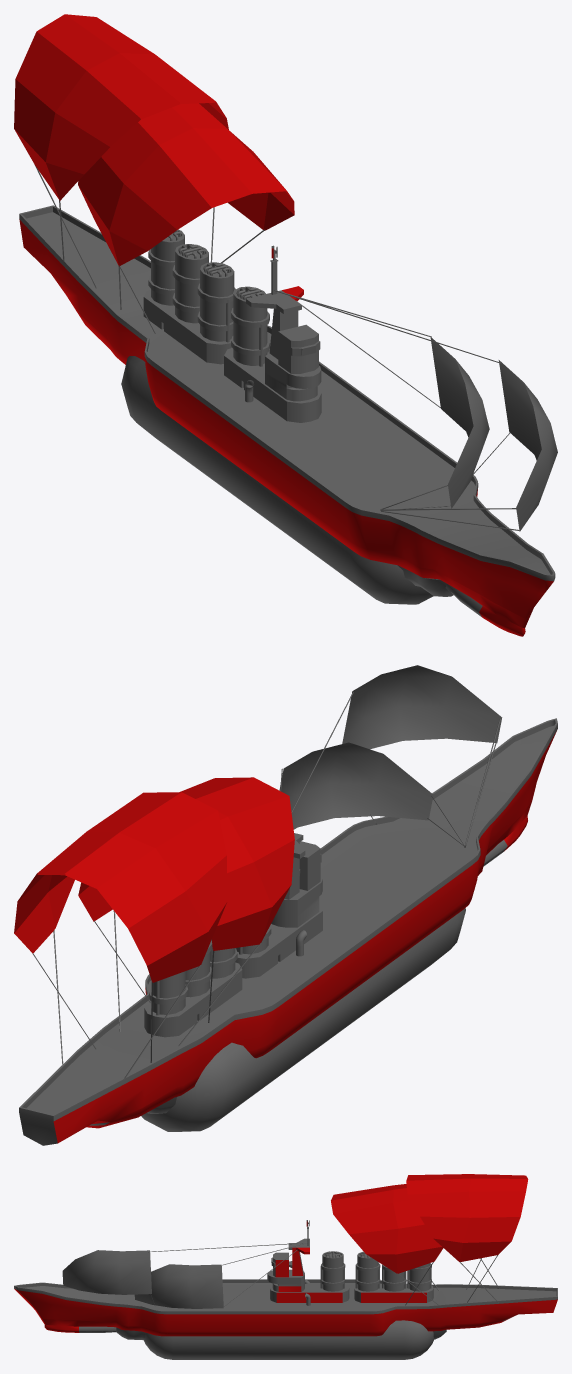
File: navy_ship_1.FBX
3 renders of one model, top to bottom at view 1: azimuth 30°, elevation 25°; view 2: azimuth 150°, elevation 25°; view 3: azimuth 270°, elevation 25°, orthographic. The views are drawn at different scales.
Parts seen in each view (by area): view 1: navy_ship_1; view 2: navy_ship_1; view 3: navy_ship_1.
Boxes of the visible parts, left/top/right/bottom form: navy_ship_1: left=14, top=14, right=557, bottom=636; navy_ship_1: left=14, top=665, right=557, bottom=1145; navy_ship_1: left=14, top=1174, right=557, bottom=1359.
Bounding box in the file's own units: 345 × 655 × 1807.
